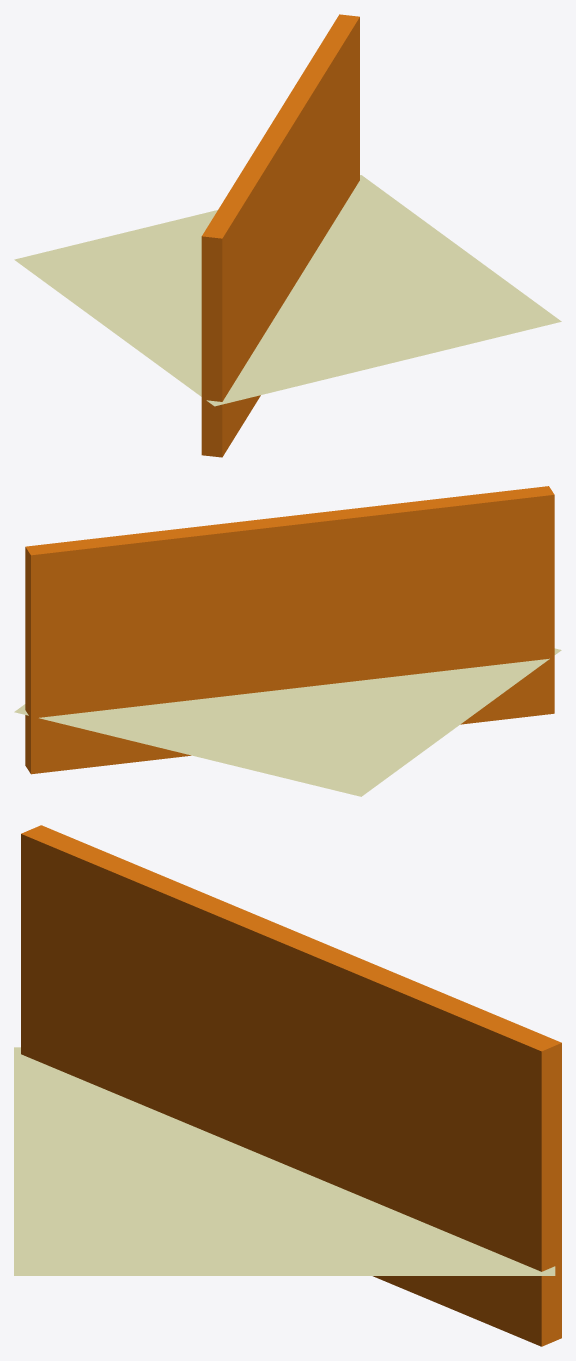
Rendered from slant_wall.fbx.
3 views of the same model, one above another, from view 1: azimuth 30°, elevation 25°; view 2: azimuth 150°, elevation 25°; view 3: azimuth 270°, elevation 25° (orthographic). The views are drawn at different scales.
Visible parts, largest first — view 1: Plane, 1_cube; view 2: 1_cube, Plane; view 3: 1_cube, Plane.
Part boxes in pixels (bbox=[...]): Plane: bbox=[14, 175, 561, 406]; 1_cube: bbox=[201, 14, 359, 457]; 1_cube: bbox=[25, 486, 554, 774]; Plane: bbox=[14, 648, 561, 796]; 1_cube: bbox=[21, 825, 561, 1346]; Plane: bbox=[14, 1047, 555, 1275].
Size of the model in its own units: 202 by 120 by 203.
